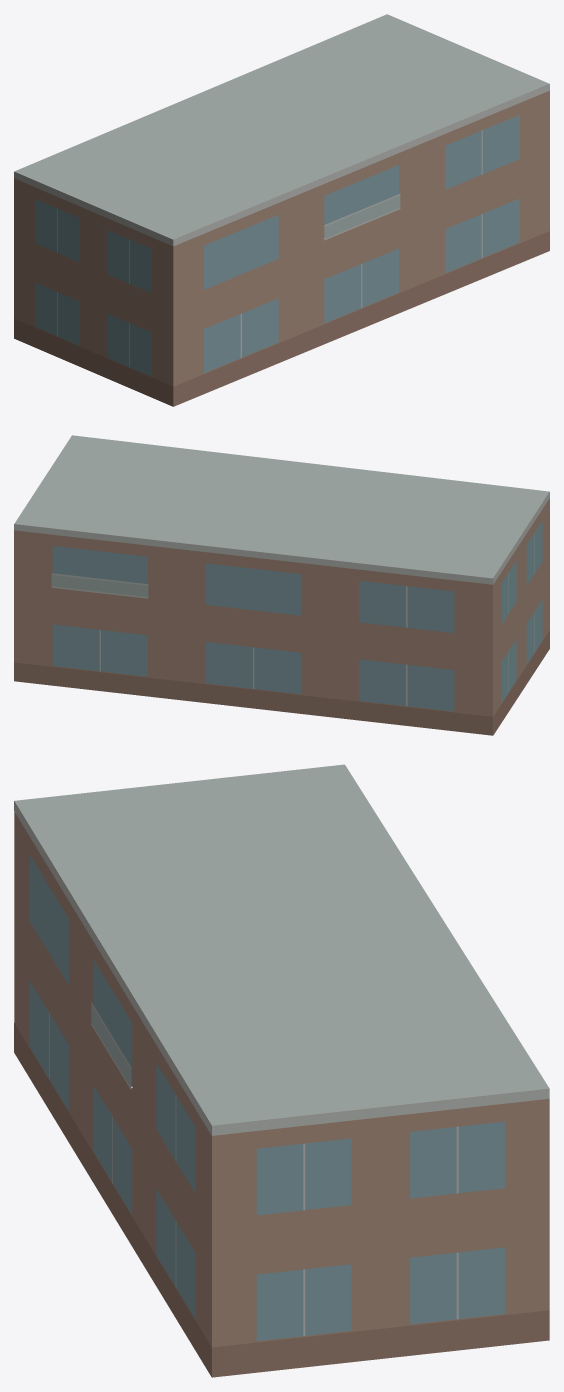
The model's file is survey-upis-32648750.glb.
The picture shows the model from 3 angles, top to bottom: view 1: azimuth 30°, elevation 25°; view 2: azimuth 150°, elevation 25°; view 3: azimuth 270°, elevation 25°; orthographic projection. The views are drawn at different scales.
Visible parts, largest first — view 1: survey-upis-32648750.tmp; view 2: survey-upis-32648750.tmp; view 3: survey-upis-32648750.tmp.
Part boxes in pixels (x1,y1,x2,y2): survey-upis-32648750.tmp: (14,14,549,406); survey-upis-32648750.tmp: (14,435,549,735); survey-upis-32648750.tmp: (14,764,549,1377).
Bounding box in the file's own units: 18.8 × 6.1 × 11.78.
